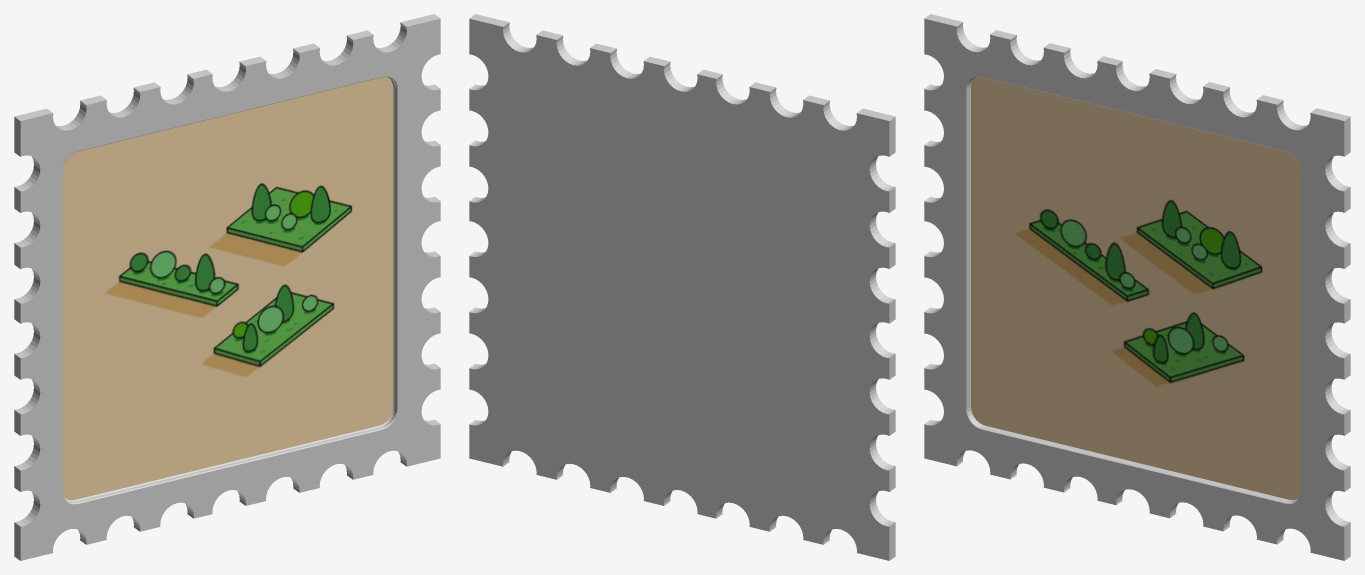
File: B_Olivia_27.glb
The picture shows the model from 3 angles, left to right: view 1: azimuth 30°, elevation 25°; view 2: azimuth 150°, elevation 25°; view 3: azimuth 330°, elevation 25°; orthographic projection.
Parts seen in each view (by area): view 1: Plane035, Plane034; view 2: Plane034; view 3: Plane035, Plane034.
Part boxes in pixels (<box>): Plane035: <box>63,77,393,500</box>; Plane034: <box>14,14,440,560</box>; Plane034: <box>469,14,895,560</box>; Plane035: <box>971,77,1301,499</box>; Plane034: <box>924,14,1350,560</box>.
Bounding box in the file's own units: 0.3 × 0.3 × 0.00781.
Materials: 2 (1 with a texture image).
